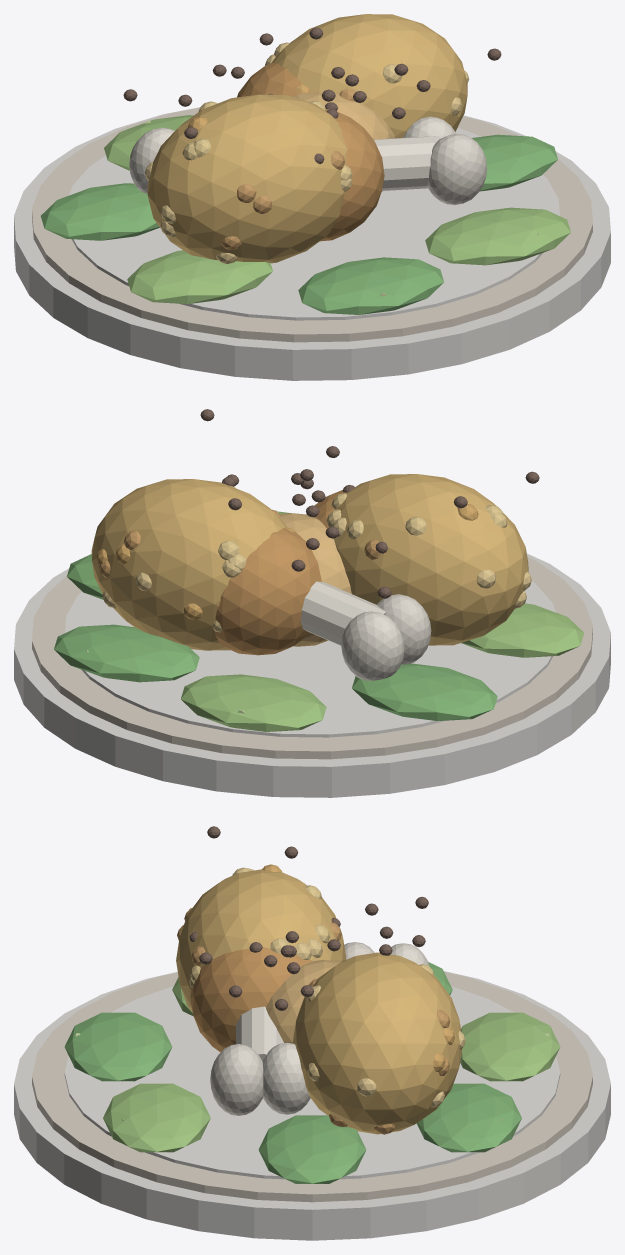
The model's file is ga_tieu.glb.
3 renders of one model, top to bottom at view 1: azimuth 30°, elevation 25°; view 2: azimuth 150°, elevation 25°; view 3: azimuth 270°, elevation 25°, orthographic.
Parts seen in each view (by area): view 1: obj_0000, obj_0017, obj_0002, obj_0001, obj_0045, obj_0005, obj_0007, obj_0009, obj_0011, obj_0018, obj_0021, obj_0003 (+6 smaller); view 2: obj_0000, obj_0017, obj_0045, obj_0001, obj_0002, obj_0046, obj_0013, obj_0015, obj_0011, obj_0009, obj_0048, obj_0047 (+3 smaller); view 3: obj_0000, obj_0045, obj_0001, obj_0002, obj_0017, obj_0018, obj_0005, obj_0007, obj_0003, obj_0013, obj_0015, obj_0021 (+3 smaller).
Part boxes in pixels (box(x1,y1,x2,y2)): obj_0000: box(14, 107, 610, 380); obj_0017: box(147, 94, 347, 263); obj_0002: box(69, 128, 559, 320); obj_0001: box(32, 107, 592, 342); obj_0045: box(271, 14, 467, 138); obj_0005: box(425, 207, 570, 265); obj_0007: box(298, 257, 443, 314); obj_0009: box(127, 250, 272, 304); obj_0011: box(40, 183, 159, 240); obj_0018: box(320, 109, 384, 241); obj_0021: box(427, 133, 487, 205); obj_0003: box(472, 134, 557, 191); obj_0000: box(14, 553, 610, 797); obj_0017: box(333, 474, 528, 645); obj_0045: box(91, 479, 286, 650); obj_0001: box(32, 557, 592, 759); obj_0002: box(65, 581, 555, 737); obj_0046: box(215, 528, 321, 655); obj_0013: box(181, 674, 326, 731); obj_0015: box(54, 624, 199, 682); obj_0011: box(352, 663, 497, 720); obj_0009: box(461, 603, 584, 657); obj_0048: box(341, 611, 404, 680); obj_0047: box(300, 581, 386, 645); obj_0000: box(14, 971, 610, 1240); obj_0045: box(292, 952, 462, 1134); obj_0001: box(32, 972, 592, 1202); obj_0002: box(64, 986, 560, 1179); obj_0017: box(176, 869, 346, 1012); obj_0018: box(190, 947, 312, 1052); obj_0005: box(103, 1083, 210, 1152); obj_0007: box(64, 1012, 172, 1081); obj_0003: box(258, 1115, 366, 1183); obj_0013: box(460, 1012, 560, 1081); obj_0015: box(417, 1083, 521, 1152); obj_0021: box(210, 1044, 263, 1115).
Size of the model in its own units: 2.1 by 0.7936 by 2.1.
